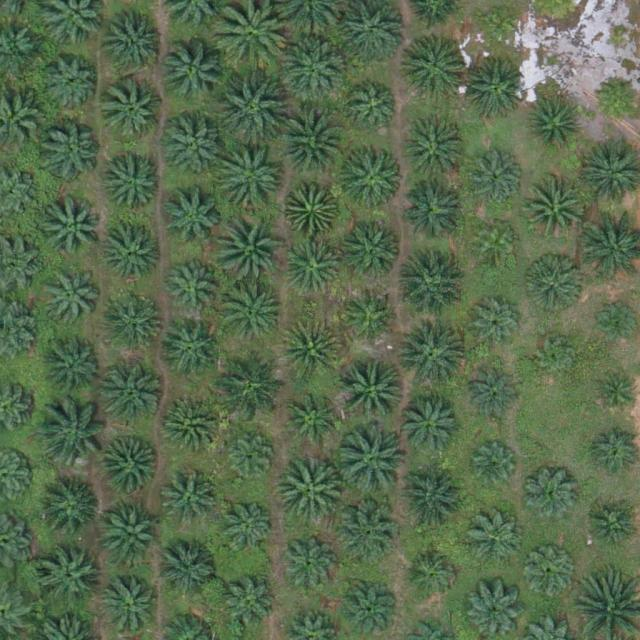Healthy: (40, 401, 111, 472), (274, 456, 344, 527), (218, 279, 288, 350), (215, 210, 285, 281), (219, 145, 289, 216), (281, 34, 351, 105), (276, 105, 346, 176), (341, 357, 411, 428), (395, 321, 465, 392), (394, 468, 464, 538), (337, 429, 407, 499), (219, 349, 289, 419), (218, 73, 288, 143), (394, 250, 464, 320), (399, 398, 462, 461), (159, 538, 222, 601), (100, 502, 163, 565), (40, 478, 103, 541), (40, 268, 103, 331), (102, 79, 165, 142), (162, 40, 225, 103), (159, 188, 222, 251), (335, 502, 397, 565), (158, 395, 220, 458), (38, 548, 100, 611), (45, 196, 107, 259), (43, 336, 105, 399), (102, 363, 164, 426), (101, 223, 163, 286), (107, 9, 170, 71), (161, 320, 223, 383), (280, 319, 342, 382), (342, 222, 404, 285), (341, 144, 403, 207), (403, 35, 465, 98), (405, 122, 467, 185), (404, 179, 466, 242), (462, 58, 524, 121), (524, 179, 586, 242), (524, 253, 587, 315), (100, 437, 162, 499), (39, 122, 101, 184), (106, 292, 168, 354), (103, 152, 165, 214), (162, 114, 224, 176), (582, 500, 637, 555), (226, 431, 281, 486), (219, 498, 274, 553), (221, 578, 276, 633), (342, 581, 397, 636), (405, 547, 460, 602), (524, 467, 579, 522), (523, 548, 578, 603), (468, 513, 523, 568), (164, 473, 219, 528), (44, 56, 99, 111), (165, 259, 220, 314), (285, 181, 340, 236), (287, 238, 342, 293), (284, 395, 339, 450), (346, 285, 401, 340), (348, 82, 403, 137), (466, 368, 521, 423), (471, 294, 526, 349), (469, 149, 524, 204), (282, 536, 336, 591), (105, 577, 159, 632), (528, 99, 582, 154)
Small: (593, 74, 640, 122), (471, 443, 518, 491), (476, 2, 523, 50), (474, 220, 521, 267), (535, 335, 582, 382), (594, 370, 640, 418)
